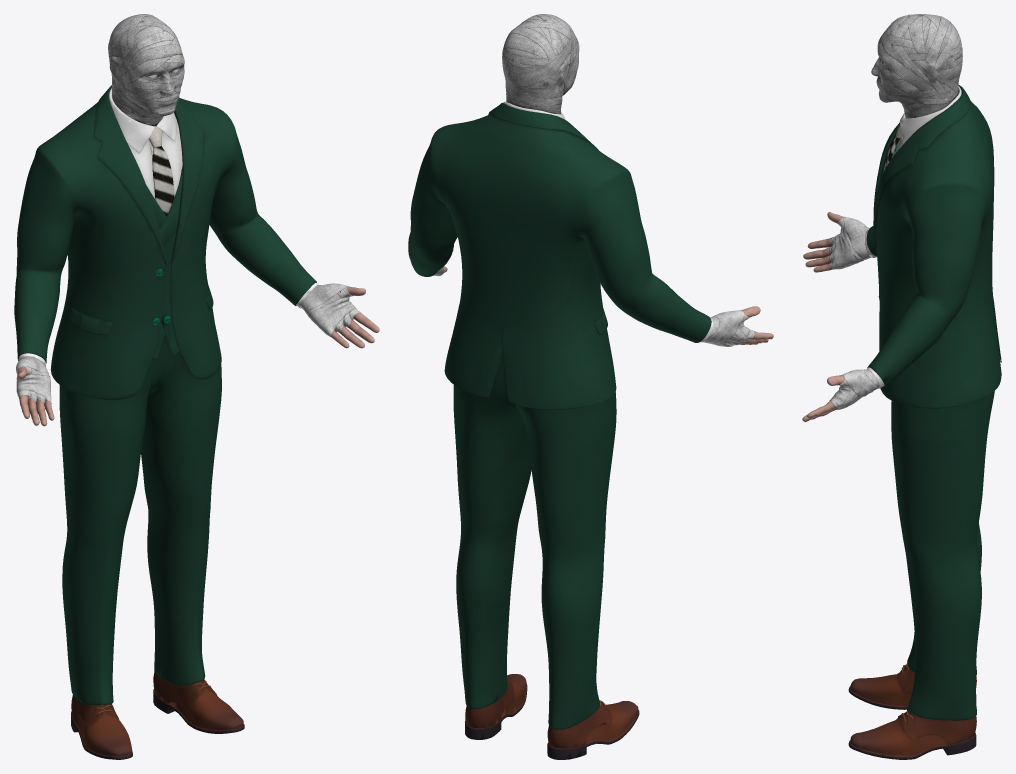
The model's file is Hector-v2.glb.
3 renders of one model, left to right at view 1: azimuth 30°, elevation 25°; view 2: azimuth 150°, elevation 25°; view 3: azimuth 270°, elevation 25°, orthographic.
Visible parts, largest first — view 1: Hector (×2); view 2: Hector (×2); view 3: Hector (×2).
Part boxes in pixels (x1,y1,x2,y2): Hector (×2): (14, 14, 379, 759); Hector (×2): (408, 14, 773, 759); Hector (×2): (802, 14, 1001, 759).
Size of the model in its own units: 0.925 by 1.77 by 0.4493.
2 materials, 2 textured.
